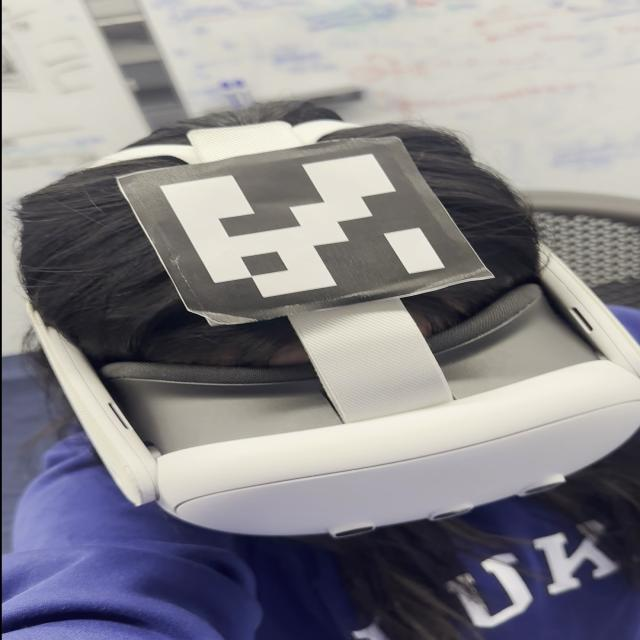Aruco Marker: (113, 133, 497, 327)
VR Headset: (15, 111, 638, 539)
